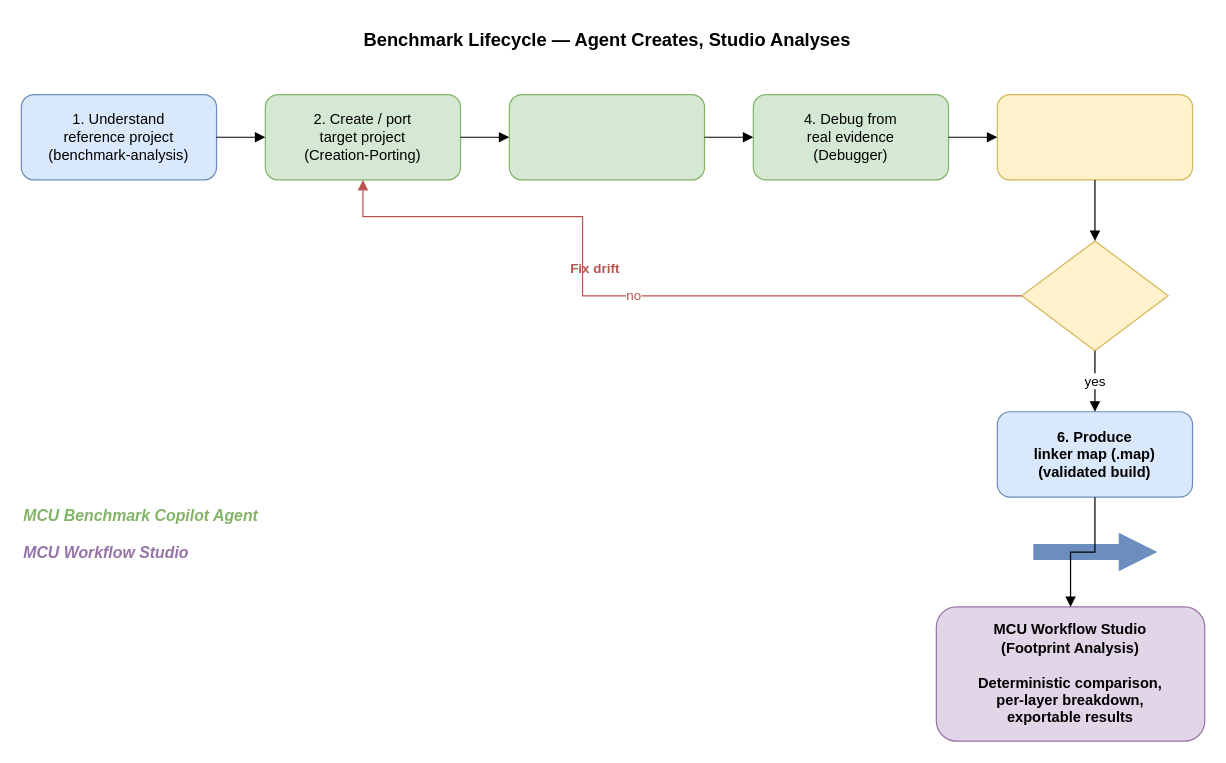
The diagram is 1226 pixels wide and 763 high, and some of its shapes have lost their labels. Here are the shapes that lost their labels. From the top down, the box of each, then its label:
(508, 93, 705, 180): 3. Configure build (Build-Project) IAR EWARM
(996, 93, 1193, 180): 5. Validate semantic equivalence (17-point checklist)
(1021, 240, 1168, 351): Semantically equivalent?
